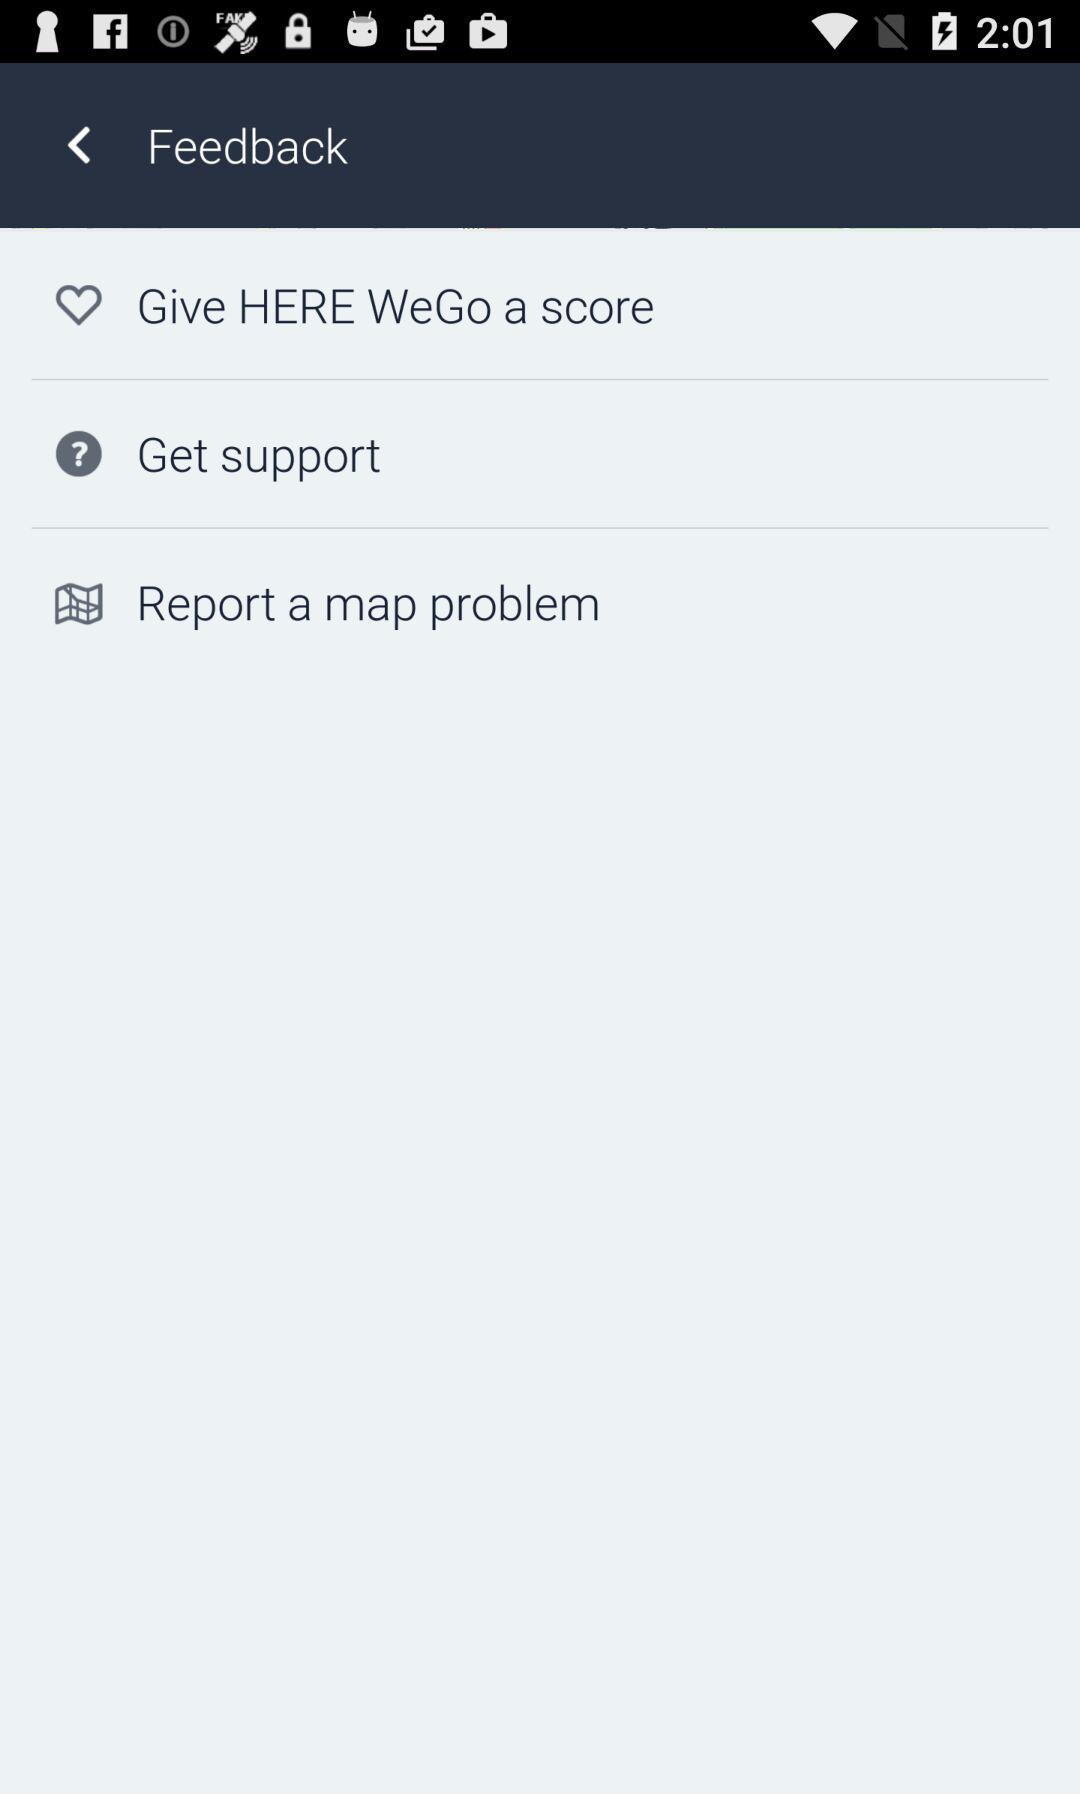Icon: (56, 431, 104, 478), (56, 284, 102, 328), (67, 126, 94, 167)
Image: (55, 582, 104, 627)
Text: (140, 584, 600, 632), (140, 290, 653, 325), (138, 437, 380, 483), (150, 127, 348, 167)
Toolbar: (1, 64, 1080, 229)
UpperTaskBar: (1, 1, 1080, 64)
